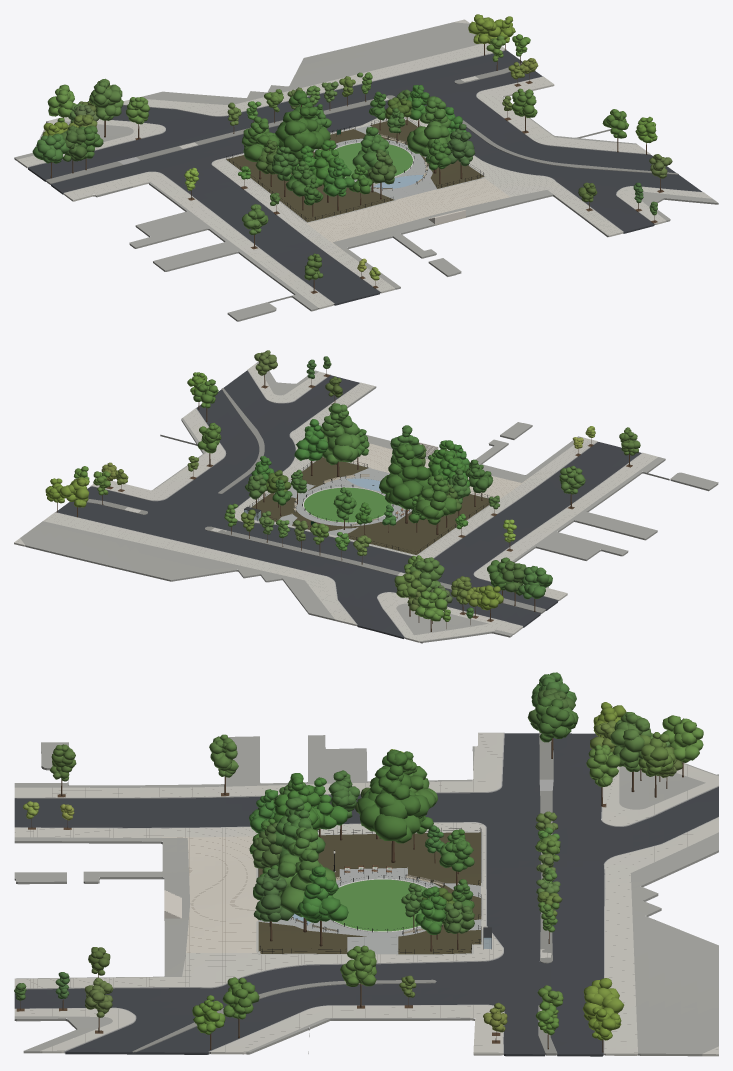
The model's file is court_square_park_LOD3_preview.glb.
The picture shows the model from 3 angles, top to bottom: view 1: azimuth 30°, elevation 25°; view 2: azimuth 150°, elevation 25°; view 3: azimuth 270°, elevation 25°; orthographic projection. The views are drawn at different scales.
Parts seen in each view (by area): view 1: Roadbed, Sidewalk, Other ground, Park trees (×11), Street trees (×11), Forecourt, Planting beds, Median, Curb stone, Park paving, Lawn; view 2: Roadbed, Sidewalk, Other ground, Park trees (×8), Street trees (×11), Planting beds, Median, Park paving, Lawn, Curb stone, Forecourt; view 3: Roadbed, Sidewalk, Other ground, Park trees (×12), Street trees (×17), Planting beds, Forecourt, Lawn, Curb stone, Park paving, Median, Paving joints (×2) (+1 smaller).
Part boxes in pixels (bbox=[...]): Roadbed: bbox=[28, 50, 702, 305]; Sidewalk: bbox=[17, 19, 711, 309]; Other ground: bbox=[14, 22, 718, 321]; Park trees (×11): bbox=[242, 90, 475, 196]; Street trees (×11): bbox=[32, 14, 661, 292]; Forecourt: bbox=[306, 178, 509, 249]; Planting beds: bbox=[226, 120, 484, 222]; Median: bbox=[46, 63, 678, 184]; Curb stone: bbox=[28, 49, 703, 305]; Park paving: bbox=[313, 125, 451, 199]; Lawn: bbox=[335, 142, 412, 179]; Roadbed: bbox=[56, 370, 641, 638]; Sidewalk: bbox=[14, 363, 657, 642]; Other ground: bbox=[20, 361, 718, 643]; Park trees (×8): bbox=[294, 403, 493, 525]; Street trees (×11): bbox=[57, 369, 629, 631]; Planting beds: bbox=[247, 457, 489, 554]; Median: bbox=[86, 388, 545, 613]; Park paving: bbox=[274, 468, 412, 536]; Lawn: bbox=[304, 487, 391, 522]; Curb stone: bbox=[55, 369, 642, 638]; Forecourt: bbox=[351, 443, 531, 498]; Roadbed: bbox=[14, 733, 718, 1056]; Sidewalk: bbox=[14, 732, 718, 1056]; Other ground: bbox=[14, 735, 718, 1056]; Park trees (×12): bbox=[249, 750, 474, 922]; Street trees (×17): bbox=[20, 672, 703, 1052]; Planting beds: bbox=[258, 832, 481, 954]; Forecourt: bbox=[162, 836, 258, 952]; Lawn: bbox=[332, 879, 426, 931]; Curb stone: bbox=[14, 732, 718, 1054]; Park paving: bbox=[258, 868, 481, 954]; Median: bbox=[132, 732, 557, 1055]; Paving joints (×2): bbox=[15, 734, 717, 1052].
Size of what is drawn, in the model's own units: 145 by 24.67 by 130.
